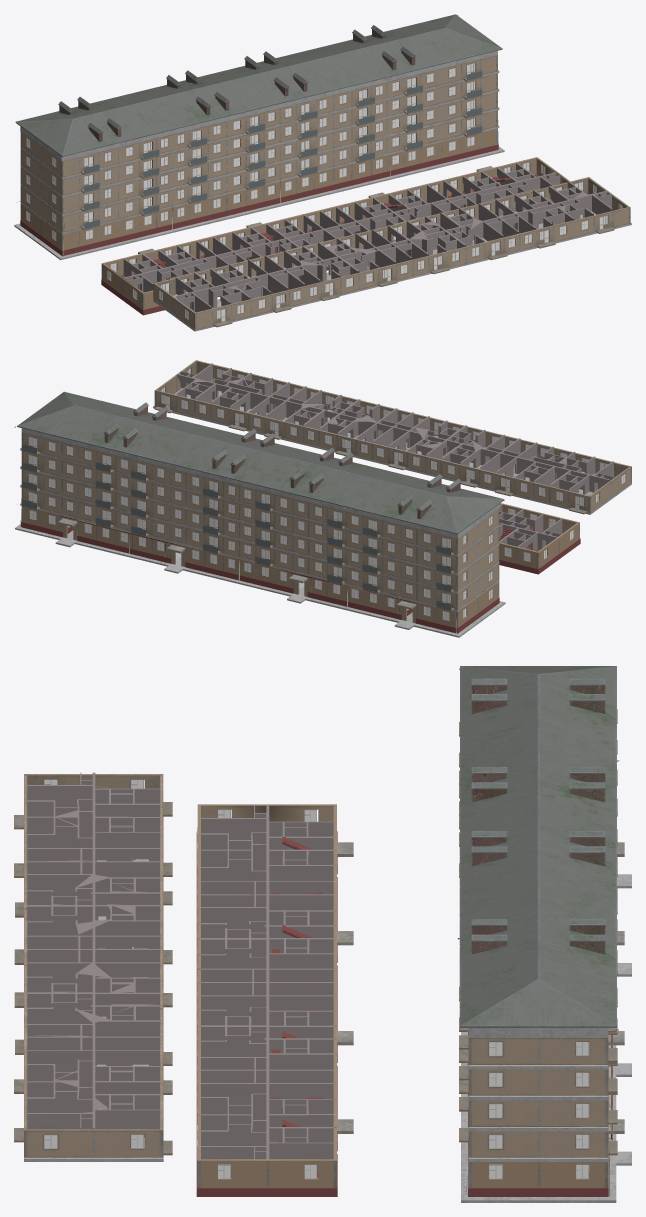
File: panel_house_2.glb
3 renders of one model, top to bottom at view 1: azimuth 30°, elevation 25°; view 2: azimuth 150°, elevation 25°; view 3: azimuth 270°, elevation 25°, orthographic. The views are drawn at different scales.
Visible parts, largest first — view 1: Object_11, Object_21, Object_2, Object_6, Object_23, Object_4, Object_3, Object_5; view 2: Object_11, Object_2, Object_21, Object_6, Object_4, Object_23, Object_5, Object_3; view 3: Object_21, Object_2, Object_11, Object_23, Object_4, Object_3, Object_6.
Part boxes in pixels (<box>): Object_11: <box>20,55,630,329</box>; Object_21: <box>123,163,612,312</box>; Object_2: <box>15,14,502,156</box>; Object_6: <box>27,63,622,321</box>; Object_23: <box>20,128,570,309</box>; Object_4: <box>14,51,631,331</box>; Object_3: <box>20,144,538,315</box>; Object_5: <box>17,15,498,255</box>; Object_11: <box>21,360,631,611</box>; Object_2: <box>17,391,504,534</box>; Object_21: <box>176,363,614,550</box>; Object_6: <box>28,368,625,620</box>; Object_4: <box>15,388,631,637</box>; Object_23: <box>21,503,579,628</box>; Object_5: <box>14,426,504,633</box>; Object_3: <box>21,522,580,633</box>; Object_21: <box>27,772,333,1174</box>; Object_2: <box>460,666,616,1027</box>; Object_11: <box>14,709,617,1157</box>; Object_23: <box>197,804,624,1187</box>; Object_4: <box>24,801,631,1202</box>; Object_3: <box>196,831,608,1196</box>; Object_6: <box>44,779,588,1178</box>.
Size of the model in its own units: 77.71 by 19.48 by 55.55.
Materials: 9 (6 with a texture image).
